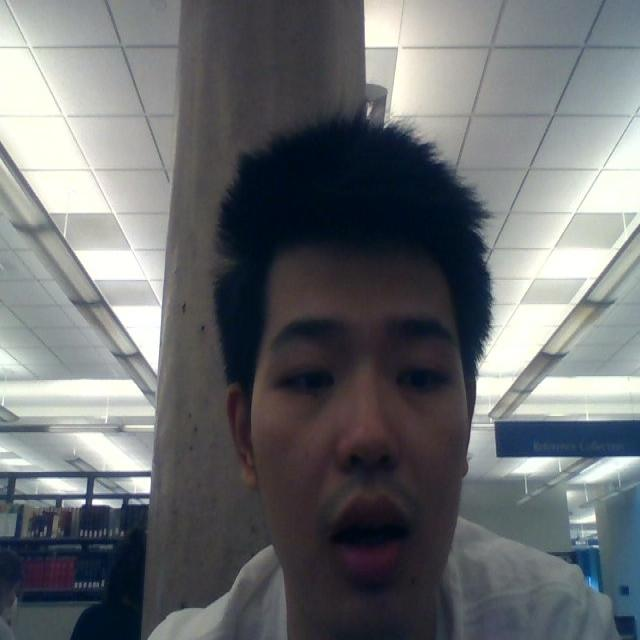Yawn: (265, 301, 449, 592)
